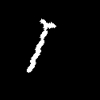half_double_crochet: (27, 19, 55, 71)
